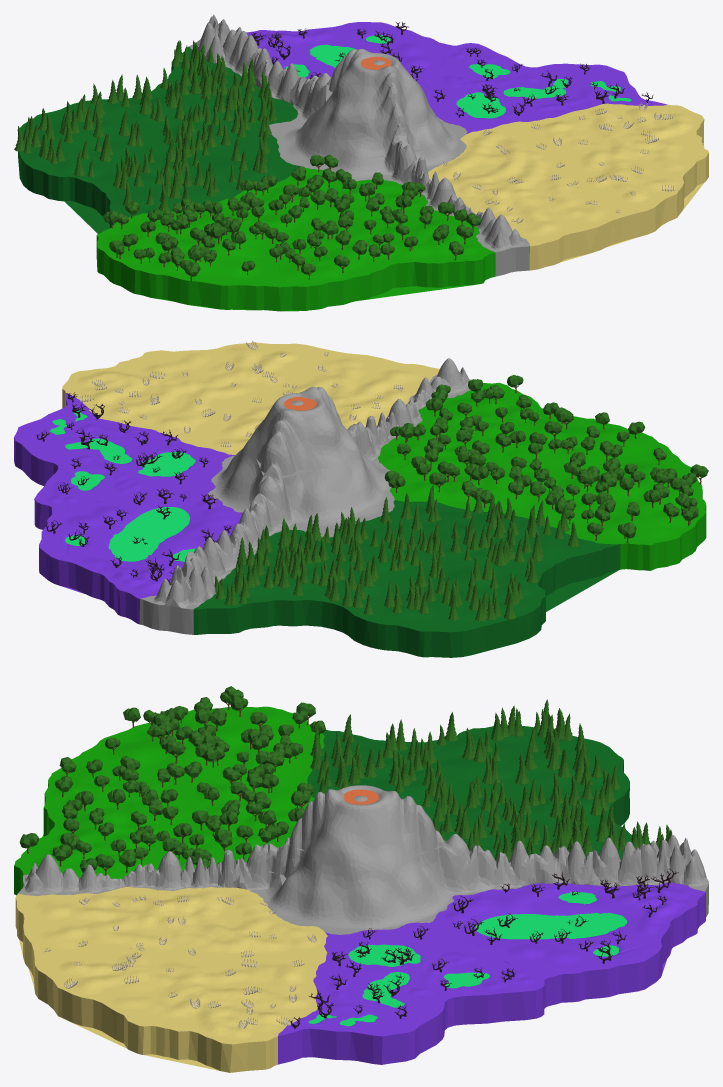
File: WorldMapUpdated.fbx
The picture shows the model from 3 angles, top to bottom: view 1: azimuth 30°, elevation 25°; view 2: azimuth 150°, elevation 25°; view 3: azimuth 270°, elevation 25°; orthographic projection. The views are drawn at different scales.
Visible parts, largest first — view 1: Orc_Desert_Part2, Orc_Desert_Part1, Human_Plains_Part2_World, Human_Plains_Part3_World, Dwarf_MountainRange_Part1, Elf_Forest_Part1_World, Demon_Desolate_Part1, Dwarf_MountainRange_Part3, Elf_Forest_Part2_World, Demon_Desolate_Part2, Dwarf_MountainRange_Part2, Demon_Desolate_Part1_Lake (+2 smaller); view 2: Elf_Forest_Part1_World, Orc_Desert_Part2, Dwarf_MountainRange_Part1, Human_Plains_Part3_World, Demon_Desolate_Part1, Demon_Desolate_Part2, Elf_Forest_Part2_World, Orc_Desert_Part1, Human_Plains_Part2_World, Dwarf_MountainRange_Part3, Dwarf_MountainRange_Part2, Demon_Desolate_Part2_Lake (+2 smaller); view 3: Orc_Desert_Part2, Dwarf_MountainRange_Part1, Demon_Desolate_Part1, Orc_Desert_Part1, Demon_Desolate_Part2, Human_Plains_Part3_World, Elf_Forest_Part1_World, Dwarf_MountainRange_Part3, Human_Plains_Part2_World, Dwarf_MountainRange_Part2, Elf_Forest_Part2_World, Demon_Desolate_Part2_Lake (+2 smaller).
Boxes of the visible parts, x1=… form: Orc_Desert_Part2: x1=517, y1=103, x2=708, y2=236; Orc_Desert_Part1: x1=428, y1=121, x2=639, y2=270; Human_Plains_Part2_World: x1=264, y1=212, x2=495, y2=311; Human_Plains_Part3_World: x1=96, y1=168, x2=341, y2=310; Dwarf_MountainRange_Part1: x1=189, y1=14, x2=529, y2=276; Elf_Forest_Part1_World: x1=18, y1=103, x2=304, y2=233; Demon_Desolate_Part1: x1=424, y1=43, x2=667, y2=133; Dwarf_MountainRange_Part3: x1=323, y1=49, x2=428, y2=130; Elf_Forest_Part2_World: x1=75, y1=46, x2=298, y2=157; Demon_Desolate_Part2: x1=246, y1=22, x2=448, y2=91; Dwarf_MountainRange_Part2: x1=305, y1=73, x2=444, y2=161; Demon_Desolate_Part1_Lake: x1=456, y1=64, x2=631, y2=118; Elf_Forest_Part1_World: x1=376, y1=500, x2=620, y2=657; Orc_Desert_Part2: x1=62, y1=342, x2=314, y2=439; Dwarf_MountainRange_Part1: x1=140, y1=358, x2=470, y2=634; Human_Plains_Part3_World: x1=390, y1=453, x2=706, y2=570; Demon_Desolate_Part1: x1=14, y1=393, x2=234, y2=529; Demon_Desolate_Part2: x1=39, y1=494, x2=242, y2=624; Elf_Forest_Part2_World: x1=193, y1=518, x2=432, y2=648; Orc_Desert_Part1: x1=180, y1=347, x2=439, y2=455; Human_Plains_Part2_World: x1=418, y1=382, x2=672, y2=471; Dwarf_MountainRange_Part3: x1=244, y1=386, x2=360, y2=478; Dwarf_MountainRange_Part2: x1=229, y1=425, x2=375, y2=508; Demon_Desolate_Part2_Lake: x1=65, y1=507, x2=195, y2=561; Orc_Desert_Part2: x1=34, y1=947, x2=320, y2=1072; Dwarf_MountainRange_Part1: x1=18, y1=834, x2=708, y2=934; Demon_Desolate_Part1: x1=278, y1=922, x2=551, y2=1064; Orc_Desert_Part1: x1=15, y1=886, x2=327, y2=986; Demon_Desolate_Part2: x1=430, y1=882, x2=705, y2=1005; Human_Plains_Part3_World: x1=79, y1=706, x2=324, y2=847; Elf_Forest_Part1_World: x1=307, y1=726, x2=629, y2=815; Dwarf_MountainRange_Part3: x1=285, y1=785, x2=445, y2=872; Human_Plains_Part2_World: x1=14, y1=756, x2=200, y2=895; Dwarf_MountainRange_Part2: x1=266, y1=834, x2=456, y2=908; Elf_Forest_Part2_World: x1=428, y1=781, x2=658, y2=860; Demon_Desolate_Part2_Lake: x1=475, y1=891, x2=627, y2=956.
Bounding box in the file's own units: 5127 × 4434 × 899.
